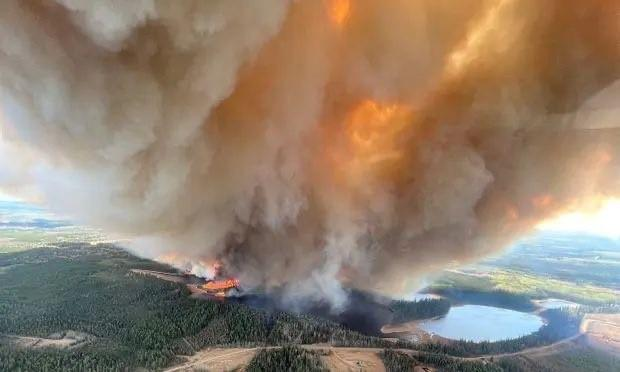fire: (203, 269, 245, 296)
smoke: (40, 0, 611, 319)
